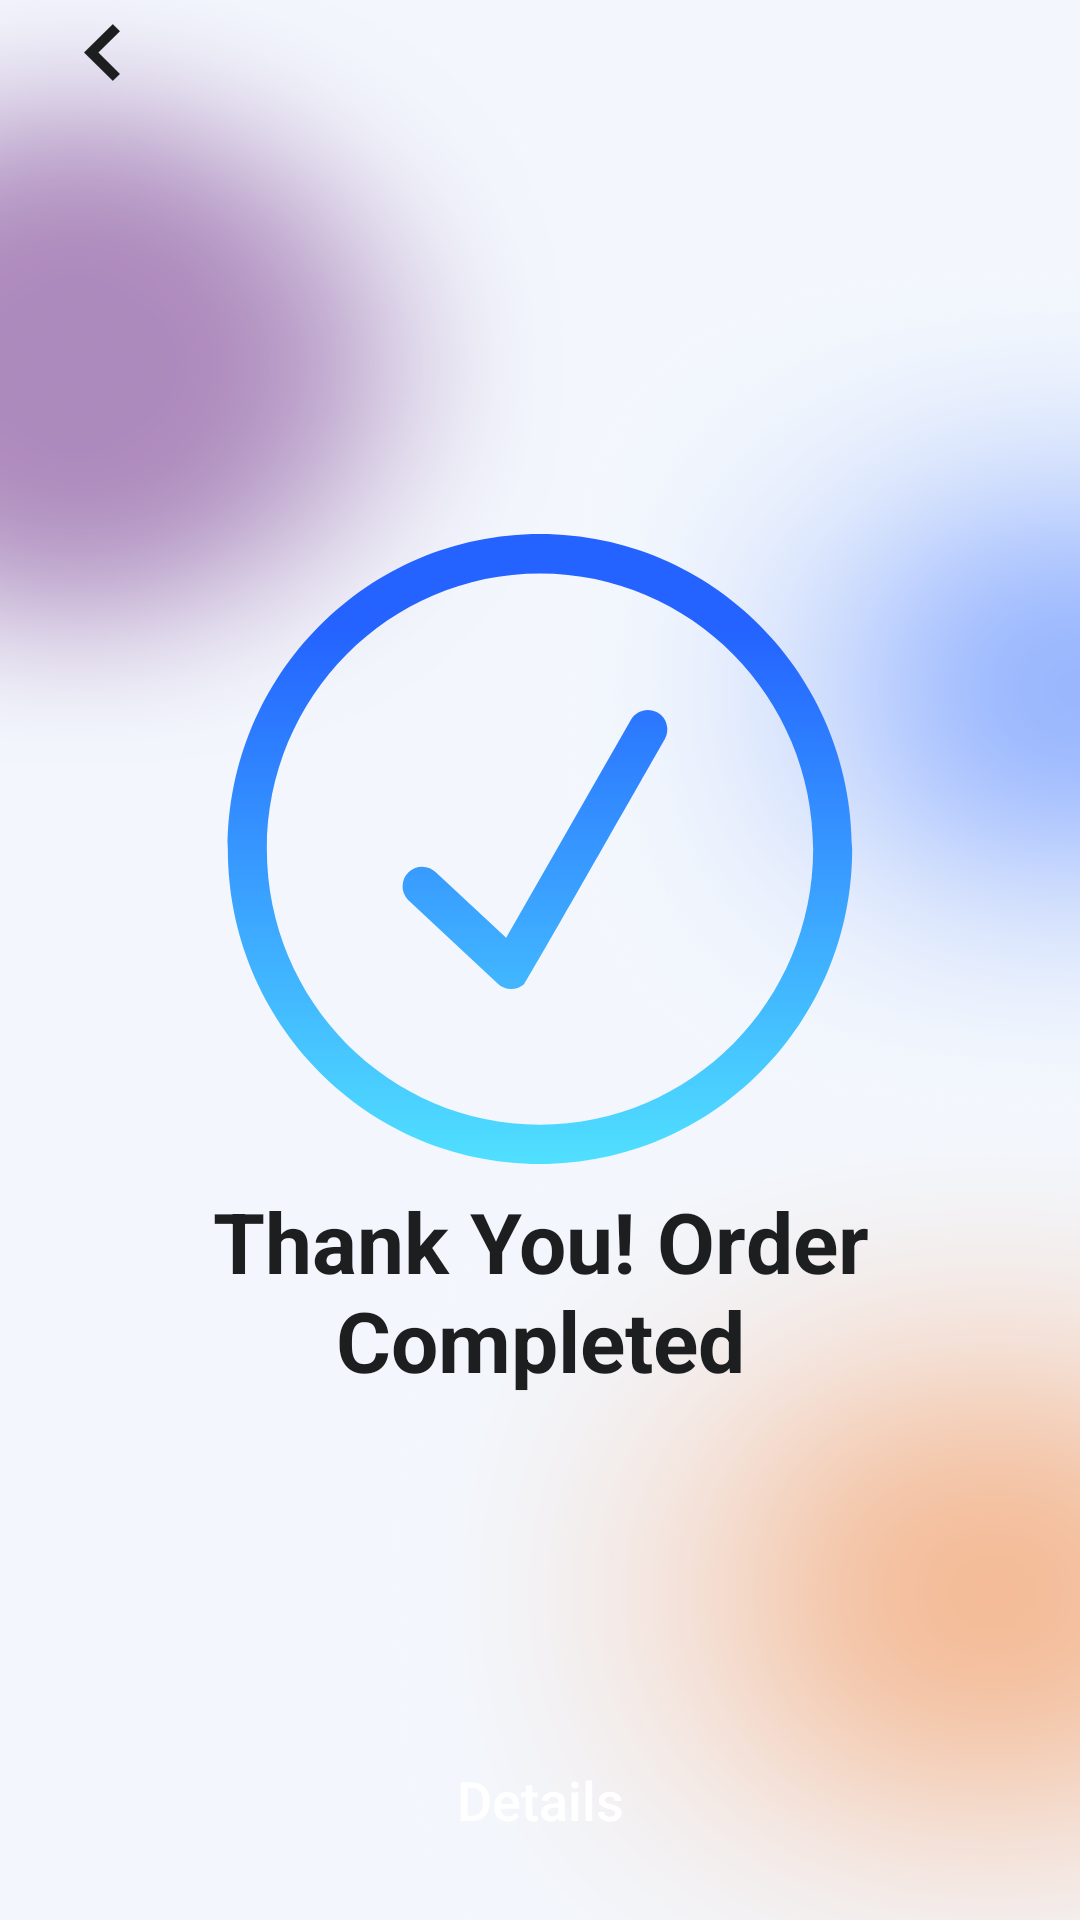

Icon click points for this 1080*1920 phone screenshot, format point (x, y):
arrow back: point (102, 52)
